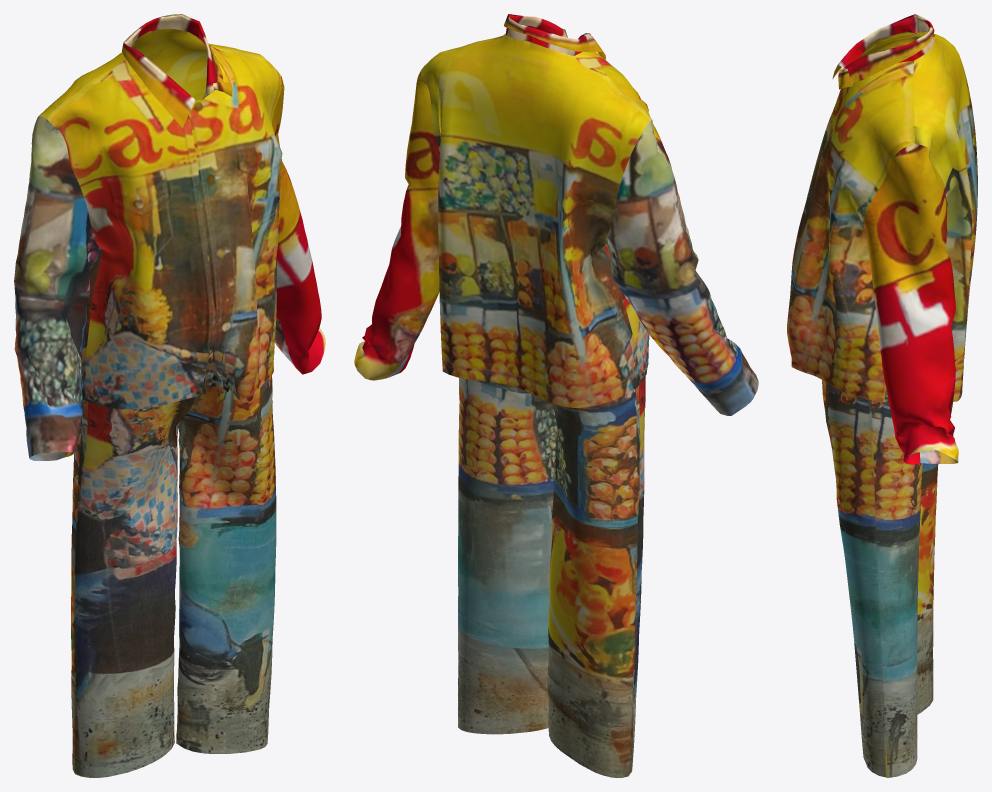
The model's file is KS_ClothCasa.glb.
3 renders of one model, left to right at view 1: azimuth 30°, elevation 25°; view 2: azimuth 150°, elevation 25°; view 3: azimuth 270°, elevation 25°, orthographic. The views are drawn at different scales.
Visible parts, largest first — view 1: SM_ClothCasa; view 2: SM_ClothCasa; view 3: SM_ClothCasa.
Part boxes in pixels (x1,y1,x2,y2): SM_ClothCasa: [14, 14, 325, 777]; SM_ClothCasa: [354, 14, 758, 777]; SM_ClothCasa: [787, 14, 977, 777].
Bounding box in the file's own units: 0.7061 × 1.44 × 0.3506.
1 material, 1 textured.
